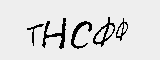Н: (39, 16, 67, 52)
С: (69, 16, 93, 54)
Т: (25, 17, 44, 48)
Ф: (91, 15, 116, 52), (115, 15, 129, 48)
